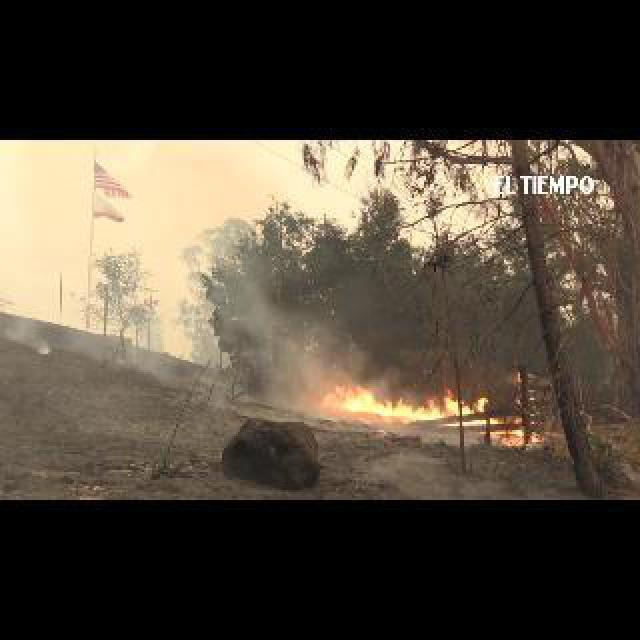fire: (322, 382, 544, 444)
smoke: (210, 282, 368, 388)
